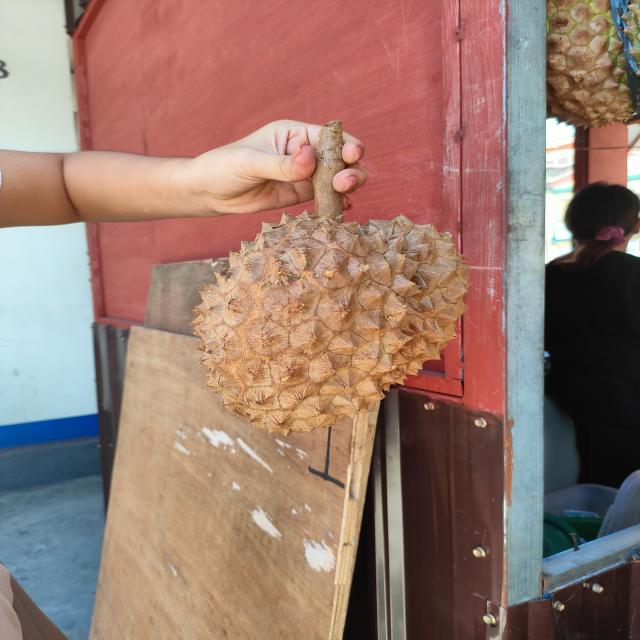mature: (189, 207, 472, 440)
